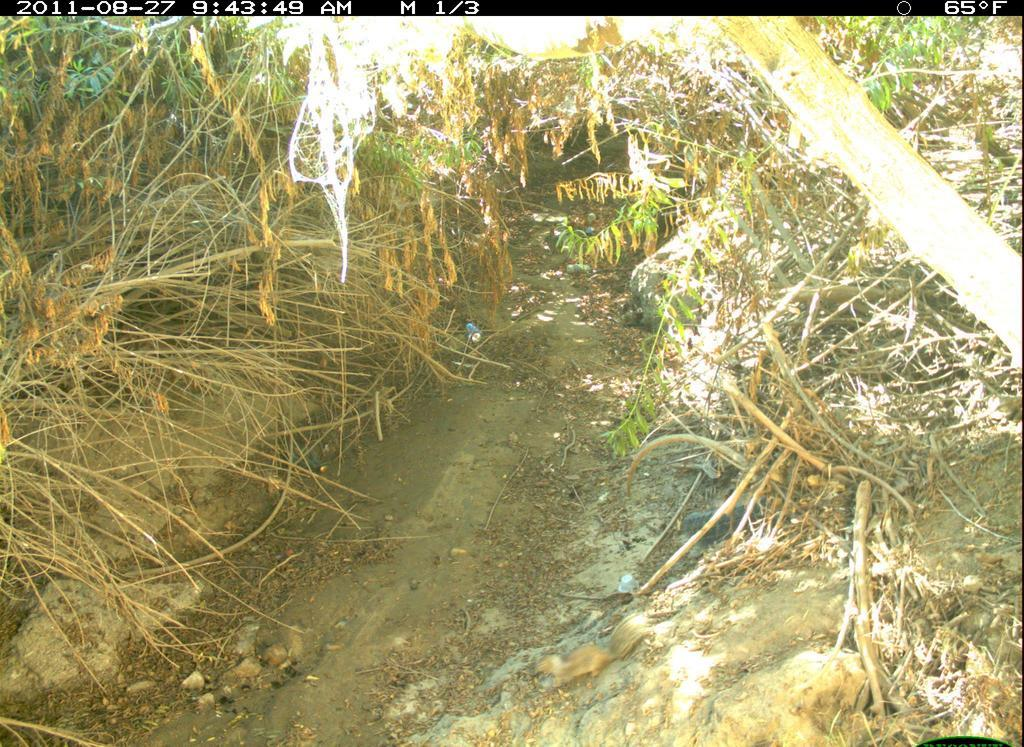squirrel: (532, 606, 657, 693)
